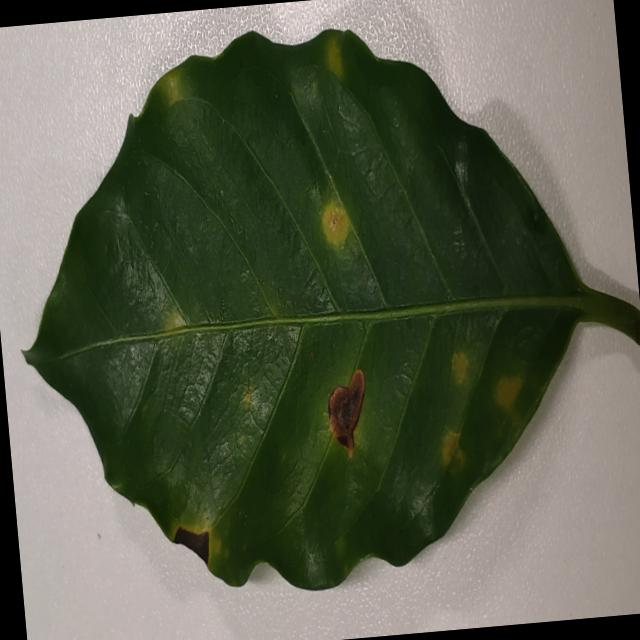KaratDaunKopi: (328, 369, 364, 457), (322, 200, 348, 246), (493, 375, 523, 411), (441, 428, 465, 470), (157, 71, 182, 104), (326, 36, 343, 80), (452, 351, 468, 383), (164, 307, 185, 329), (594, 58, 599, 66)
